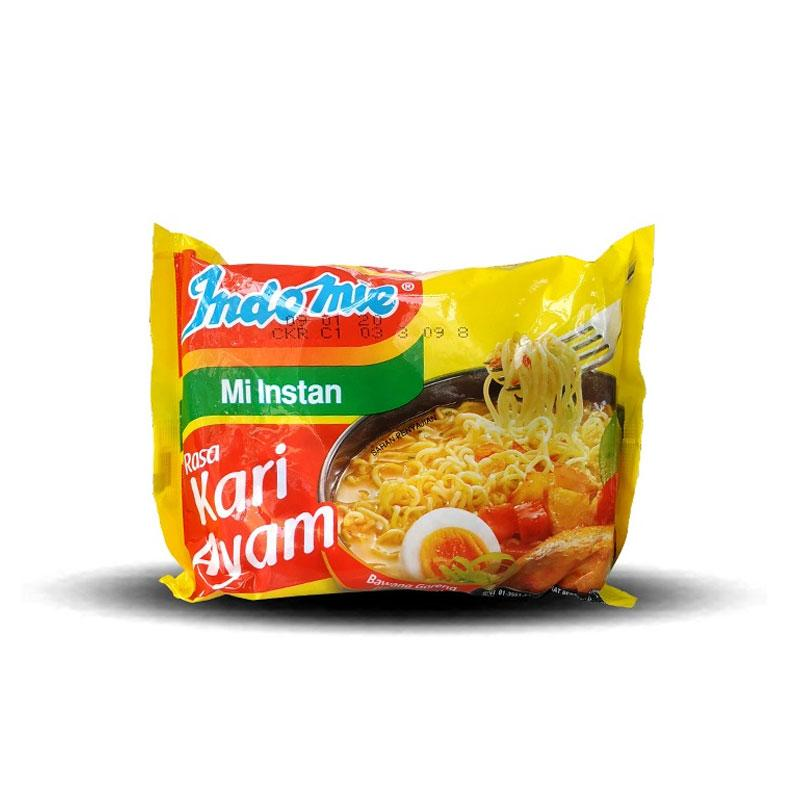indomie kari ayam: (91, 176, 678, 644)
